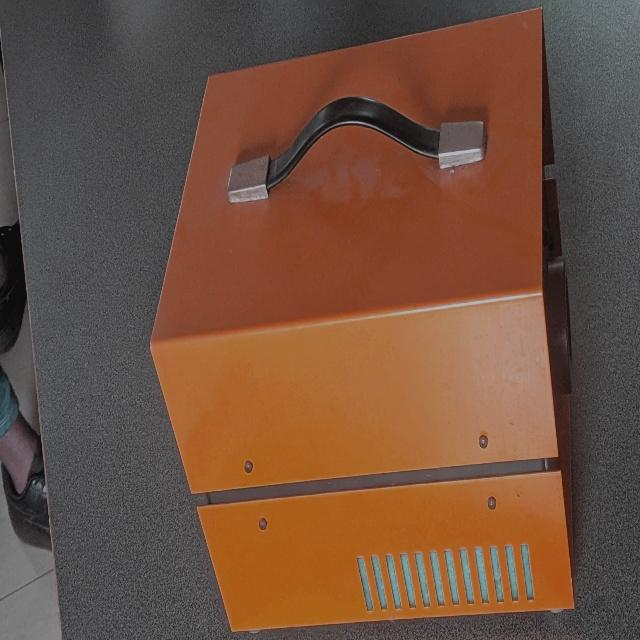Vacuum Pump: (144, 0, 587, 621)
